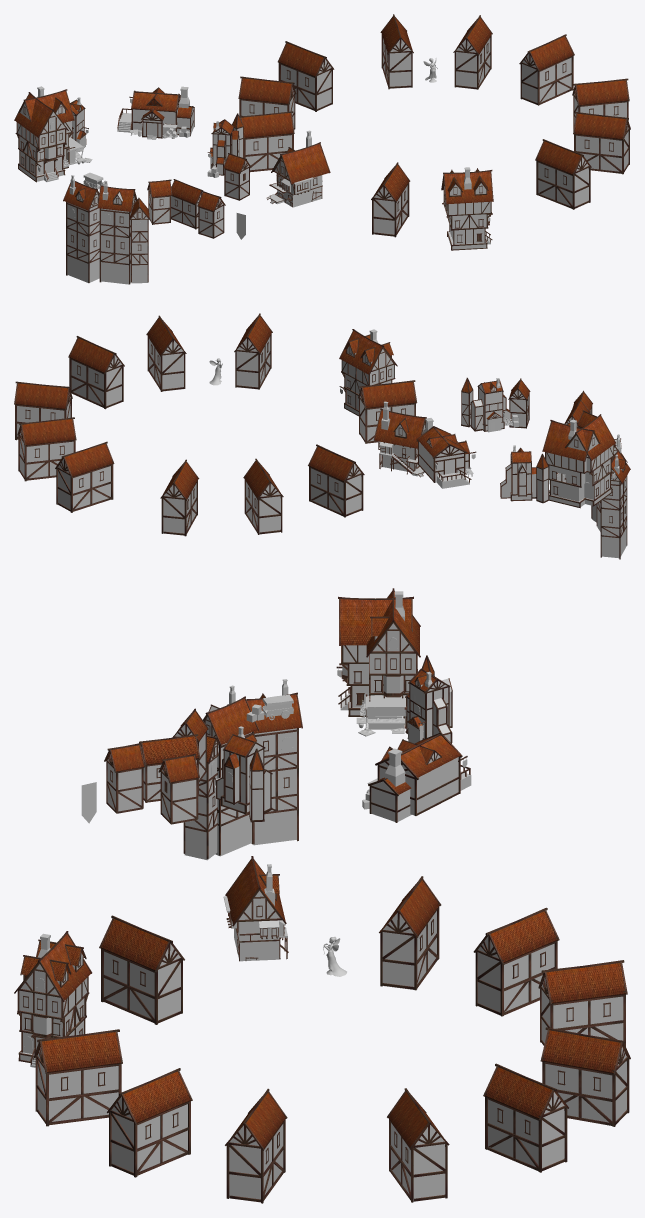
The model's file is zhucheng03-3.FBX.
The picture shows the model from 3 angles, top to bottom: view 1: azimuth 30°, elevation 25°; view 2: azimuth 150°, elevation 25°; view 3: azimuth 270°, elevation 25°; orthographic projection. The views are drawn at different scales.
Visible parts, largest first — view 1: zhucheng03-jianzhu49, zhucheng03-jianzhu50, zhucheng03-jianzhu47, zhucheng03-jianzhu48, zhucheng03-jianzhu51; view 2: zhucheng03-jianzhu49, zhucheng03-jianzhu50, zhucheng03-jianzhu47, zhucheng03-jianzhu48; view 3: zhucheng03-jianzhu49, zhucheng03-jianzhu50, zhucheng03-jianzhu47, zhucheng03-jianzhu48, zhucheng03-jianzhu51.
Part boxes in pixels (bbox=[...]): zhucheng03-jianzhu49: bbox=[17, 38, 628, 284]; zhucheng03-jianzhu50: bbox=[14, 14, 630, 284]; zhucheng03-jianzhu47: bbox=[15, 17, 629, 218]; zhucheng03-jianzhu48: bbox=[21, 44, 617, 250]; zhucheng03-jianzhu51: bbox=[63, 123, 245, 239]; zhucheng03-jianzhu49: bbox=[17, 329, 626, 558]; zhucheng03-jianzhu50: bbox=[14, 313, 630, 559]; zhucheng03-jianzhu47: bbox=[15, 316, 630, 499]; zhucheng03-jianzhu48: bbox=[26, 344, 625, 522]; zhucheng03-jianzhu49: bbox=[19, 591, 626, 1202]; zhucheng03-jianzhu50: bbox=[14, 588, 630, 1203]; zhucheng03-jianzhu47: bbox=[21, 591, 630, 1149]; zhucheng03-jianzhu48: bbox=[23, 637, 609, 1161]; zhucheng03-jianzhu51: bbox=[81, 681, 406, 823].
Size of the model in its own units: 73.79 by 19.97 by 45.89.
